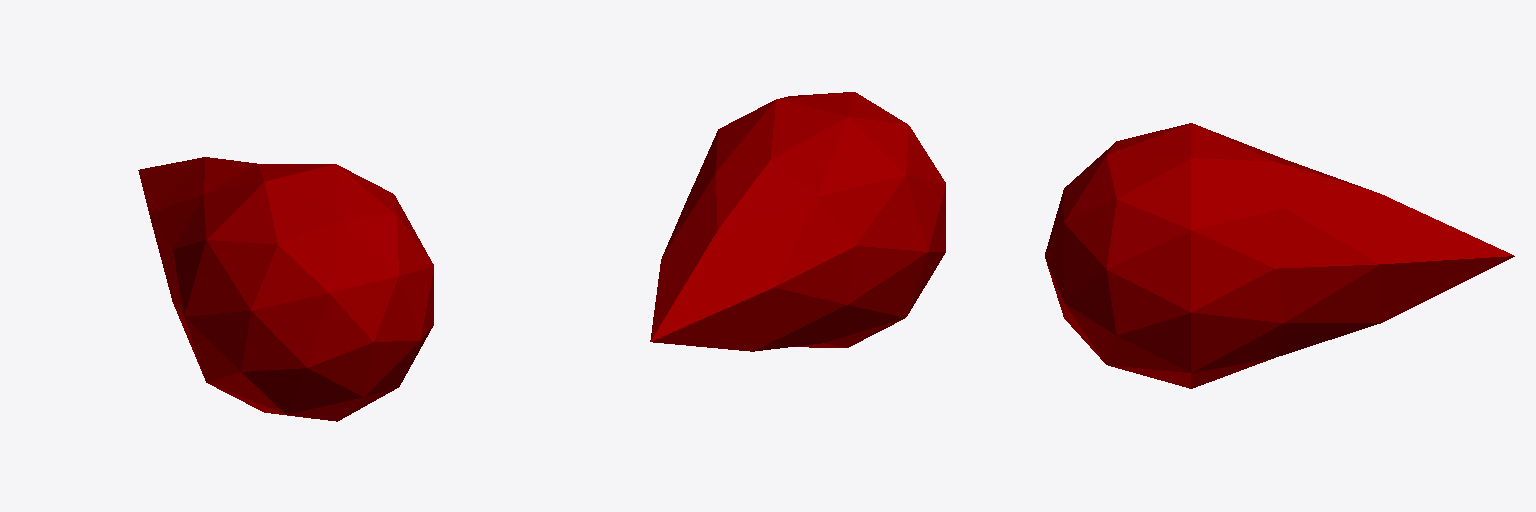
Rendered from marker.obj.
3 views of the same model, side by side, from view 1: azimuth 30°, elevation 25°; view 2: azimuth 150°, elevation 25°; view 3: azimuth 270°, elevation 25° (orthographic).
Parts seen in each view (by area): view 1: Icosphere; view 2: Icosphere; view 3: Icosphere.
Part boxes in pixels (bbox=[...]): Icosphere: bbox=[138, 157, 433, 421]; Icosphere: bbox=[650, 92, 945, 351]; Icosphere: bbox=[1045, 123, 1514, 388].
Bounding box in the file's own units: 0.9839 × 0.9357 × 1.73.